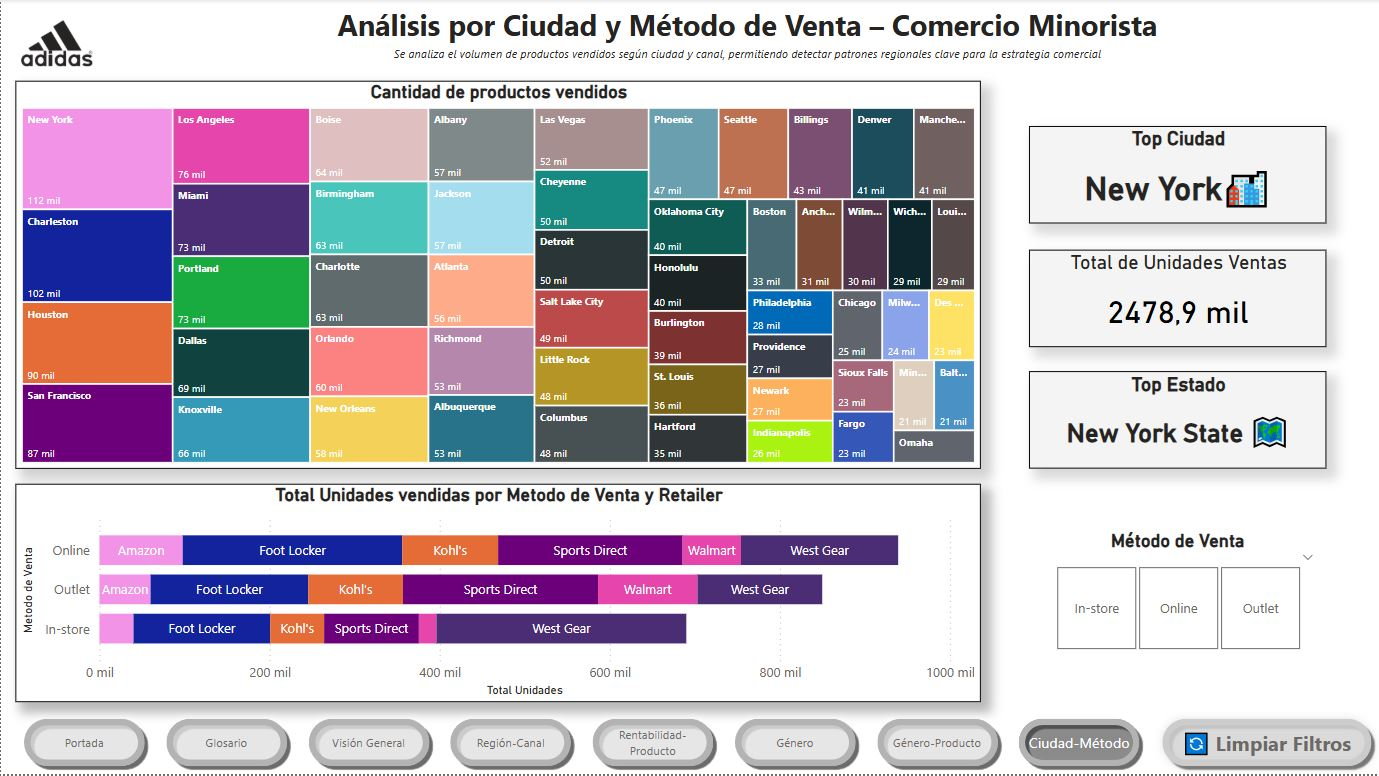

This screenshot's page, from the dashboard's own definition file:
{"tool":"powerbi","page":{"name":"Ciudad-Método","canvas":[1280,720],"ordinal":7},"visuals":[{"type":"actionButton","box":[1070,660,210,60],"z":0},{"type":"image","box":[12.9,7.6,76.6,68],"z":1000},{"type":"card","title":"Top Ciudad","fields":{"Values":["Medidas.Top Ciudad"]},"box":[954.8,117.6,276.2,90.6],"z":2000},{"type":"card","title":"Total de Unidades Ventas","fields":{"Values":["Medidas.Total Unidades"]},"box":[954.8,233,276.2,90.6],"z":3000},{"type":"treemap","title":"Cantidad de productos vendidos","fields":{"Group":["Ciudad.Ciudad"],"Values":["Medidas.Total Unidades"]},"box":[12.9,75.5,896.6,360.4],"z":4000},{"type":"textbox","box":[269.7,0,846.9,64.7],"z":5000},{"type":"slicer","title":"Método de Venta","fields":{"Values":["Metodo de Venta.Metodo de Venta"]},"box":[954.8,493.1,276.2,117.6],"z":6000},{"type":"barChart","title":"Total Unidades vendidas por Metodo de Venta y Retailer","fields":{"Category":["Metodo de Venta.Metodo de Venta"],"Y":["Medidas.Total Unidades"],"Series":["Retailer.Retailer"]},"box":[12.9,449.9,896.6,202.8],"z":7000},{"type":"card","title":"Top Estado","fields":{"Values":["Medidas.Top Estado"]},"box":[954.8,345.3,276.2,90.6],"z":8000},{"type":"pageNavigator","box":[13.8,660,1056.2,60],"z":9000}]}

Visuals, with their boxes in screenshot pixels (x1, y1, x2, y2), scaled from the page's 1280x720 canvas onto the 1379x776 screenshot:
actionButton: 1153:711:1378:775
image: 14:8:96:81
"Top Ciudad" card: 1029:127:1326:224
"Total de Unidades Ventas" card: 1029:251:1326:349
"Cantidad de productos vendidos" treemap: 14:81:980:470
textbox: 291:0:1203:70
"Método de Venta" slicer: 1029:531:1326:658
"Total Unidades vendidas por Metodo de Venta y Retailer" barChart: 14:485:980:703
"Top Estado" card: 1029:372:1326:470
pageNavigator: 15:711:1153:775
